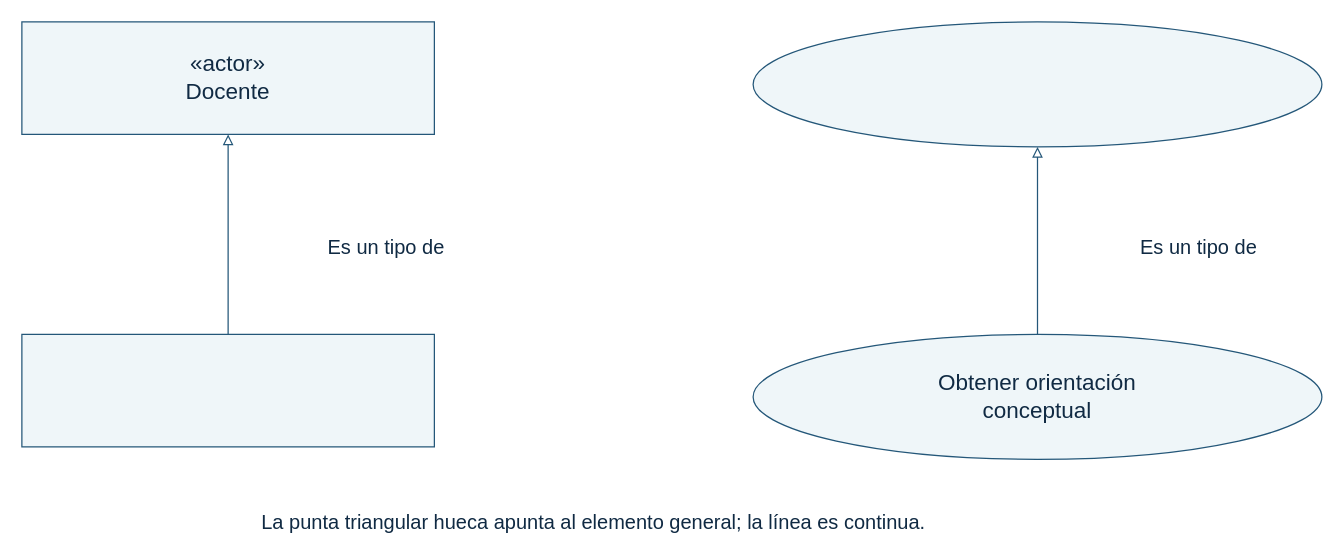
The diagram is 1344 pixels wide and 560 high, and some of its shapes have lost their labels. The centre of each missing label's shape, as x and y in pixels:
"Obtener orientación" goes at (1037,84).
"«actor» Docente coordinador" goes at (227,390).
